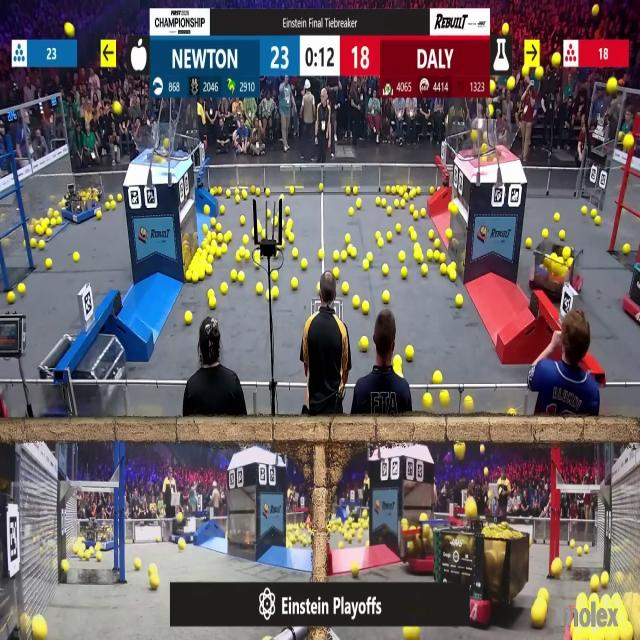ball_airborne: (468, 497, 479, 518), (405, 626, 419, 640), (455, 444, 466, 461), (607, 77, 617, 94), (625, 134, 634, 150), (65, 23, 75, 37), (553, 54, 562, 67), (113, 102, 121, 115), (535, 67, 543, 79), (470, 131, 478, 143), (592, 4, 600, 16), (507, 77, 514, 89), (523, 66, 530, 77), (490, 80, 496, 92), (502, 25, 508, 36), (484, 466, 490, 476), (489, 105, 494, 116), (482, 143, 488, 152), (165, 139, 171, 148), (482, 132, 488, 141), (619, 132, 625, 140), (481, 446, 486, 455)
ball_ground: (532, 603, 546, 627), (34, 619, 46, 640), (552, 560, 562, 577), (442, 391, 451, 406), (149, 574, 158, 589), (464, 396, 473, 411), (423, 393, 432, 407), (432, 372, 442, 384), (406, 346, 414, 361), (591, 575, 599, 590), (360, 338, 368, 352), (351, 562, 359, 576), (601, 572, 609, 586), (184, 312, 192, 325), (62, 560, 69, 574), (382, 290, 390, 302), (342, 282, 350, 294), (414, 247, 421, 260), (538, 590, 547, 600), (7, 291, 15, 302), (456, 294, 463, 306), (272, 287, 279, 299), (353, 295, 360, 307), (565, 557, 572, 569), (209, 298, 216, 310), (421, 266, 428, 278), (302, 260, 309, 272), (449, 203, 456, 215), (341, 251, 349, 261), (394, 356, 402, 366), (255, 283, 262, 294), (382, 266, 389, 277), (291, 248, 298, 259), (17, 284, 24, 295), (398, 251, 405, 262), (238, 273, 245, 284), (291, 278, 297, 290), (362, 302, 368, 314), (400, 269, 407, 279), (450, 272, 457, 282), (441, 266, 448, 276), (427, 250, 434, 260), (243, 236, 250, 246), (334, 269, 341, 279), (223, 234, 230, 244), (244, 251, 251, 261), (149, 565, 156, 575), (36, 224, 43, 234), (624, 244, 630, 255), (135, 559, 141, 570), (45, 260, 51, 271), (221, 283, 227, 294), (206, 266, 212, 277), (253, 251, 259, 262), (210, 233, 218, 241), (200, 271, 207, 280), (362, 262, 368, 272), (272, 272, 278, 282), (541, 230, 547, 240), (74, 252, 80, 262), (237, 252, 243, 262), (318, 250, 324, 260), (232, 272, 238, 282), (526, 239, 532, 249), (184, 272, 190, 282), (179, 539, 185, 549), (351, 248, 357, 258), (288, 234, 294, 244), (335, 251, 341, 261), (191, 274, 197, 284), (381, 200, 388, 208), (210, 240, 217, 248), (420, 251, 425, 262), (395, 223, 401, 232), (387, 233, 393, 242), (595, 216, 601, 225), (412, 233, 418, 242), (219, 206, 225, 215), (366, 252, 372, 261), (208, 254, 214, 263), (348, 207, 354, 216), (97, 211, 103, 220), (221, 245, 227, 254), (216, 234, 222, 243), (346, 186, 352, 195), (352, 186, 358, 195), (346, 533, 352, 542), (414, 211, 420, 220), (346, 234, 351, 244), (447, 230, 452, 240), (356, 200, 361, 210), (441, 252, 446, 262), (262, 230, 267, 240), (434, 250, 439, 260), (287, 219, 292, 229), (449, 264, 454, 274), (316, 283, 321, 293), (555, 213, 561, 221), (208, 289, 214, 297), (428, 232, 434, 240), (204, 206, 210, 214), (110, 202, 116, 210), (203, 224, 209, 232), (583, 207, 589, 215), (576, 546, 582, 554), (318, 184, 324, 192), (428, 186, 434, 194), (202, 240, 208, 248), (97, 553, 102, 562), (434, 240, 439, 249), (275, 217, 280, 226), (46, 229, 51, 238), (236, 195, 242, 202), (284, 208, 290, 215), (402, 192, 408, 199), (216, 187, 222, 194), (560, 232, 565, 240), (241, 216, 246, 224), (379, 240, 384, 248), (376, 232, 381, 240), (585, 544, 590, 552), (39, 241, 44, 249), (340, 540, 345, 548), (216, 249, 221, 257), (31, 240, 36, 248), (400, 200, 405, 208), (216, 223, 221, 231), (410, 224, 415, 232), (211, 218, 216, 226), (243, 190, 248, 198), (386, 185, 391, 193), (47, 210, 52, 218), (357, 538, 362, 546), (388, 207, 392, 216), (106, 202, 110, 211), (422, 208, 426, 217), (257, 223, 261, 232), (108, 194, 114, 200), (155, 535, 160, 542), (592, 209, 597, 216), (394, 201, 399, 208), (225, 190, 230, 197), (410, 206, 415, 213), (289, 187, 294, 194), (50, 218, 55, 225), (268, 210, 272, 218), (377, 199, 381, 207), (119, 195, 123, 203), (267, 188, 271, 196), (417, 186, 421, 194), (256, 188, 260, 196), (80, 552, 84, 560), (276, 251, 281, 257), (254, 265, 259, 271), (570, 540, 574, 547), (281, 193, 284, 200), (282, 241, 284, 248)
goal: (466, 121, 520, 160), (130, 129, 189, 162)
robot_blue: (39, 334, 125, 412), (62, 180, 100, 224), (169, 514, 200, 545), (84, 523, 115, 550)
robot_red: (431, 523, 530, 621), (531, 243, 582, 312), (401, 515, 435, 574), (624, 247, 640, 325)
